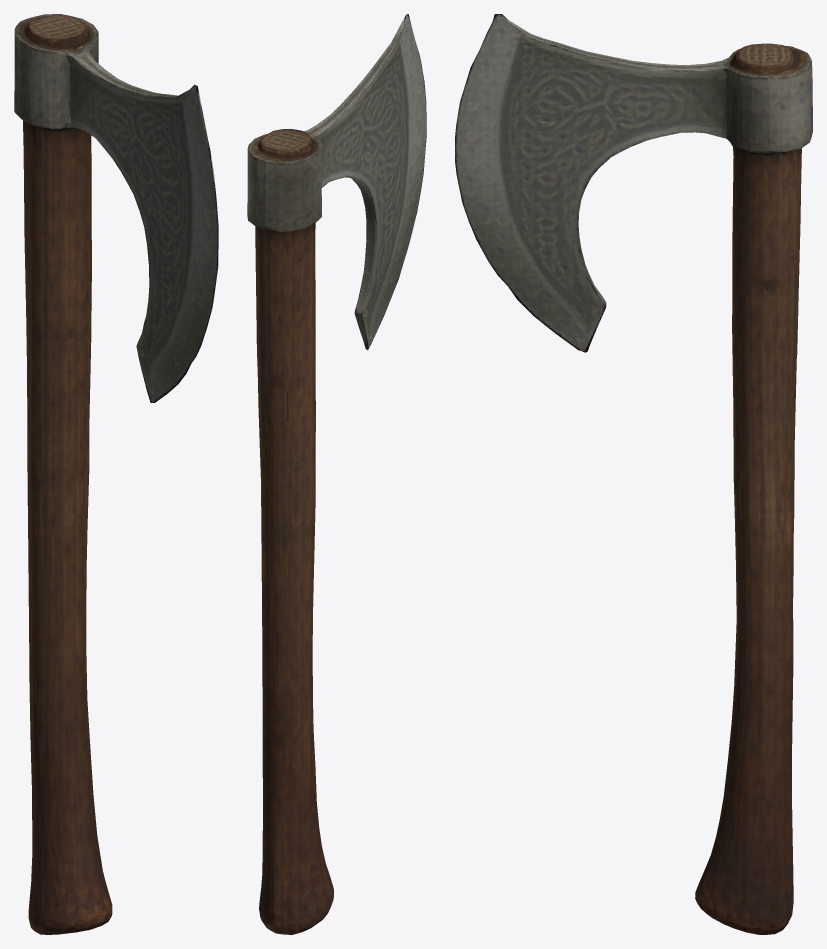
Rendered from BattleAxe.glb.
3 renders of one model, left to right at view 1: azimuth 30°, elevation 25°; view 2: azimuth 150°, elevation 25°; view 3: azimuth 270°, elevation 25°, orthographic. The views are drawn at different scales.
Visible parts, largest first — view 1: world; view 2: world; view 3: world.
Part boxes in pixels (x1,y1,x2,y2): world: (14,14,218,934); world: (247,14,426,934); world: (455,14,812,934).
Bounding box in the file's own units: 0.0803 × 0.9993 × 0.354.
1 material, 1 textured.
